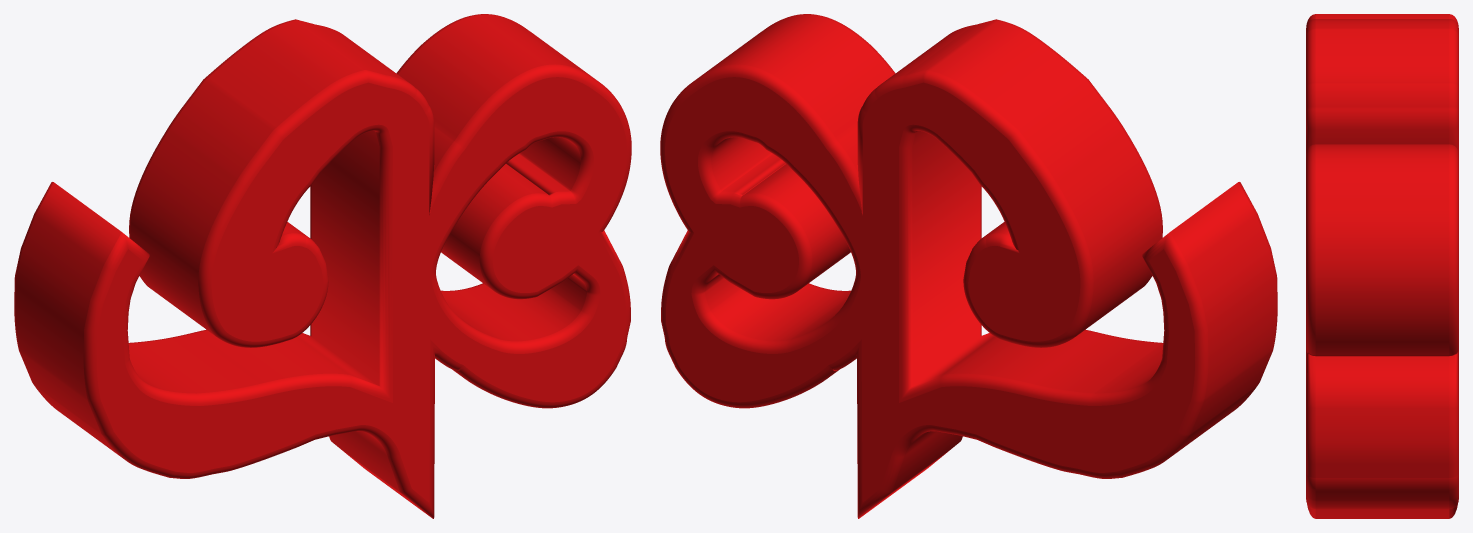
The model's file is bn_alphabet_10.fbx.
3 renders of one model, left to right at view 1: azimuth 30°, elevation 25°; view 2: azimuth 150°, elevation 25°; view 3: azimuth 270°, elevation 25°, orthographic.
Parts seen in each view (by area): view 1: Text; view 2: Text; view 3: Text.
Boxes of the visible parts, x1=… form: Text: x1=14, y1=14, x2=631, y2=518; Text: x1=660, y1=14, x2=1277, y2=518; Text: x1=1306, y1=14, x2=1458, y2=518.
Size of the model in its own units: 279 by 227 by 68.82.
